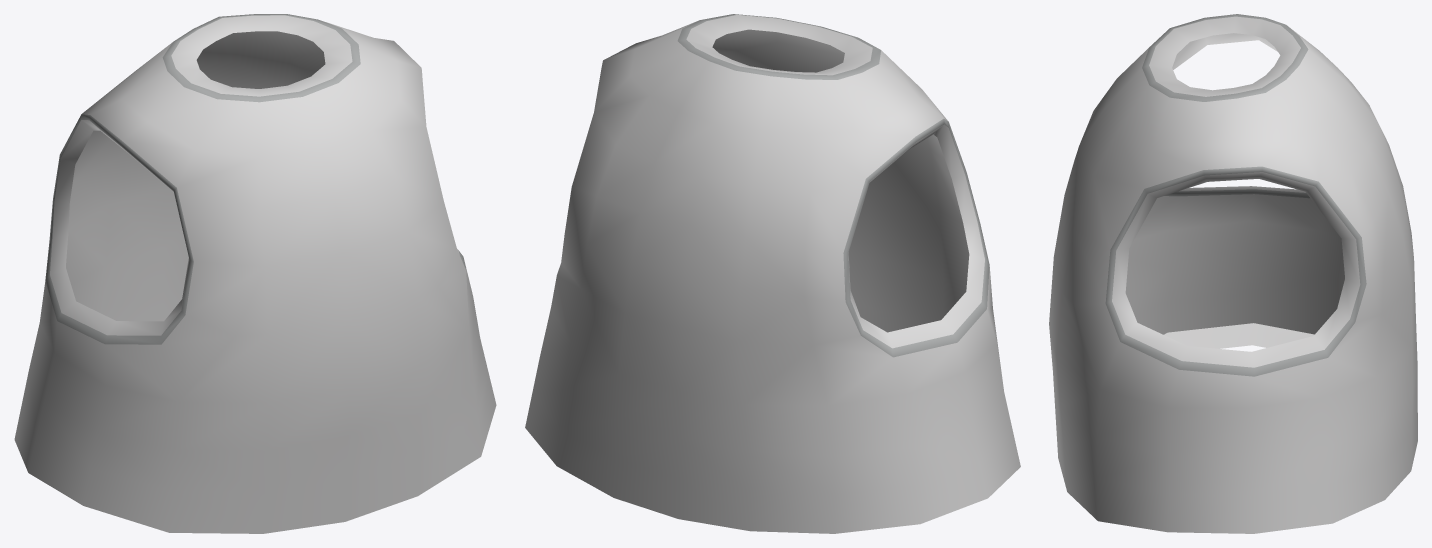
The model's file is Outwear_32.glb.
The picture shows the model from 3 angles, left to right: view 1: azimuth 30°, elevation 25°; view 2: azimuth 150°, elevation 25°; view 3: azimuth 270°, elevation 25°; orthographic projection. The views are drawn at different scales.
Visible parts, largest first — view 1: Outwear_32; view 2: Outwear_32; view 3: Outwear_32.
Boxes of the visible parts, x1,y1,x2,y2 form: Outwear_32: (14,14,496,533); Outwear_32: (525,14,1020,533); Outwear_32: (1049,14,1417,533).
Bounding box in the file's own units: 0.2616 × 0.2394 × 0.1934.
Materials: 1 (1 with a texture image).
